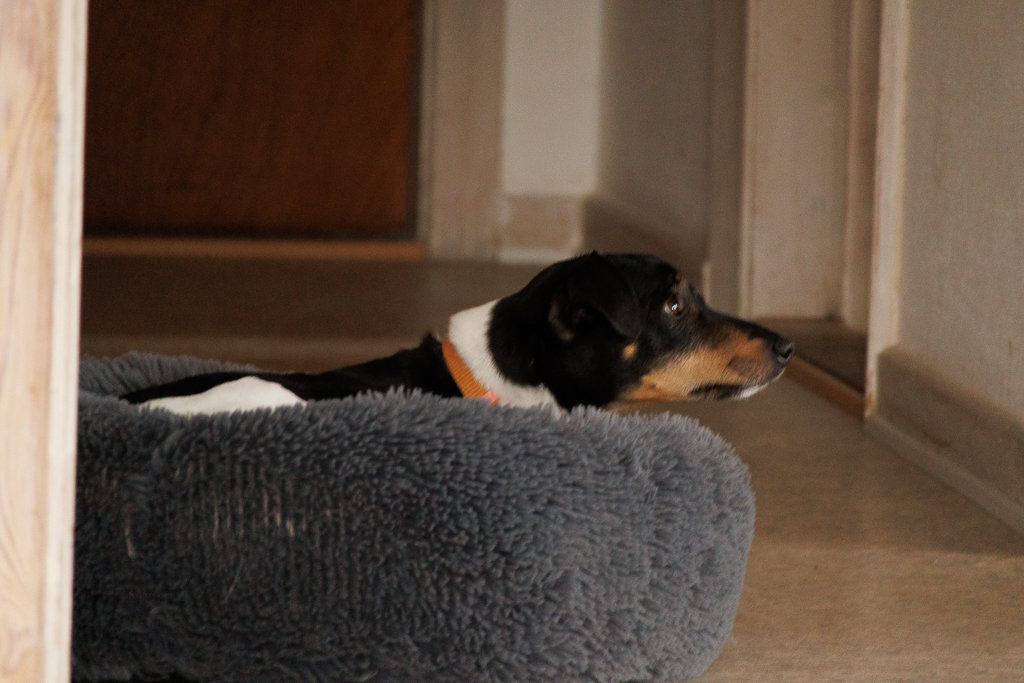Dog: (92, 239, 802, 432)
